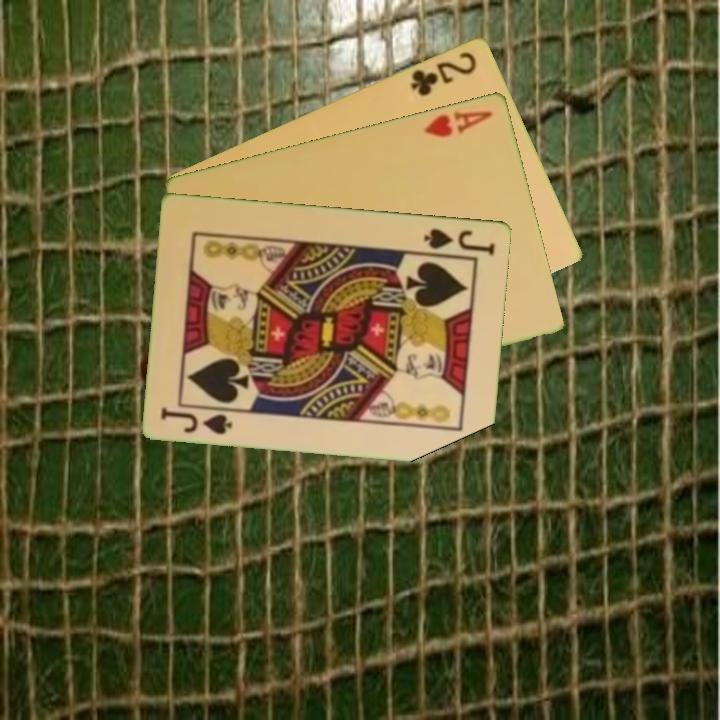2c: (407, 47, 480, 99)
Ah: (421, 106, 496, 140)
Js: (158, 403, 238, 437), (420, 224, 498, 258)
